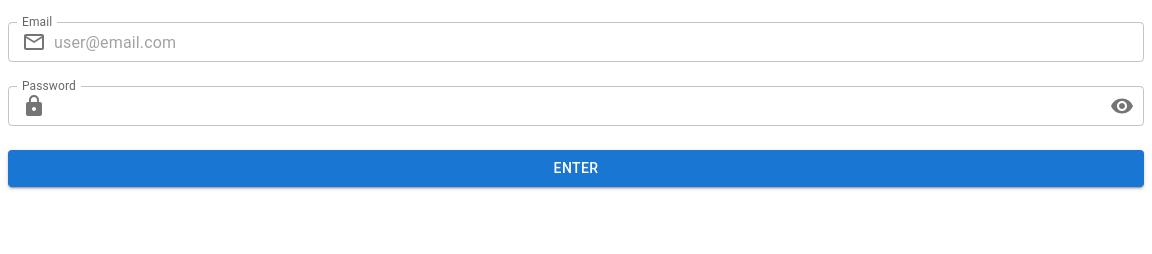
Scenario: LoginForm › should render error messages on input wrong email
The image size is (1152, 254).
In the field labelled "Email": (599, 42) top-left (54, 22), bottom-right (1144, 62), type "test"
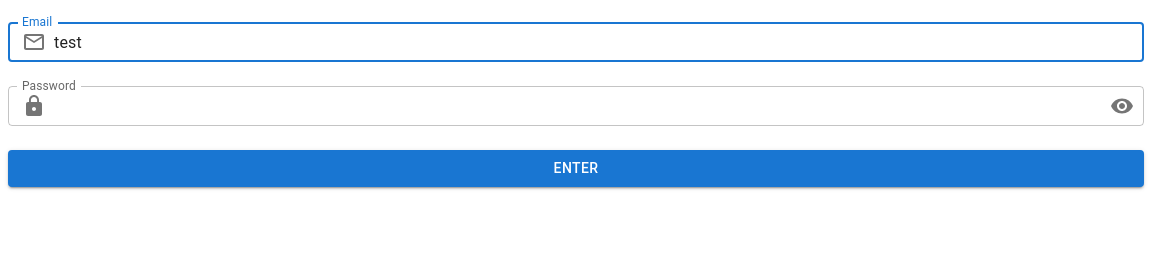
Click the button "Enter": click(576, 168) top-left (8, 150), bottom-right (1144, 186)
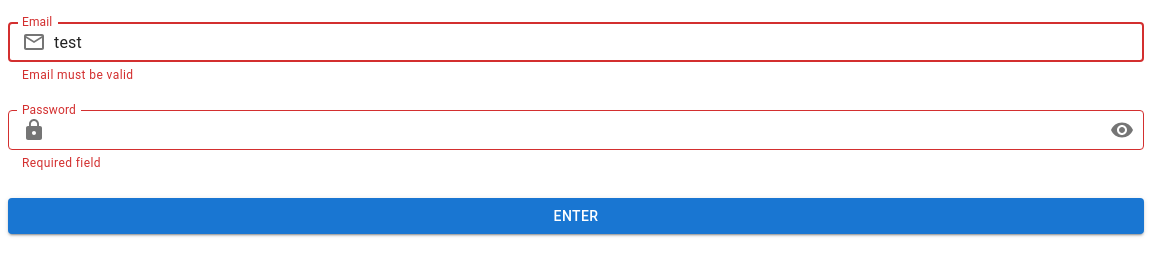
Expected: the text "Email must be valid" is shown, top-left (22, 68), bottom-right (134, 82)
